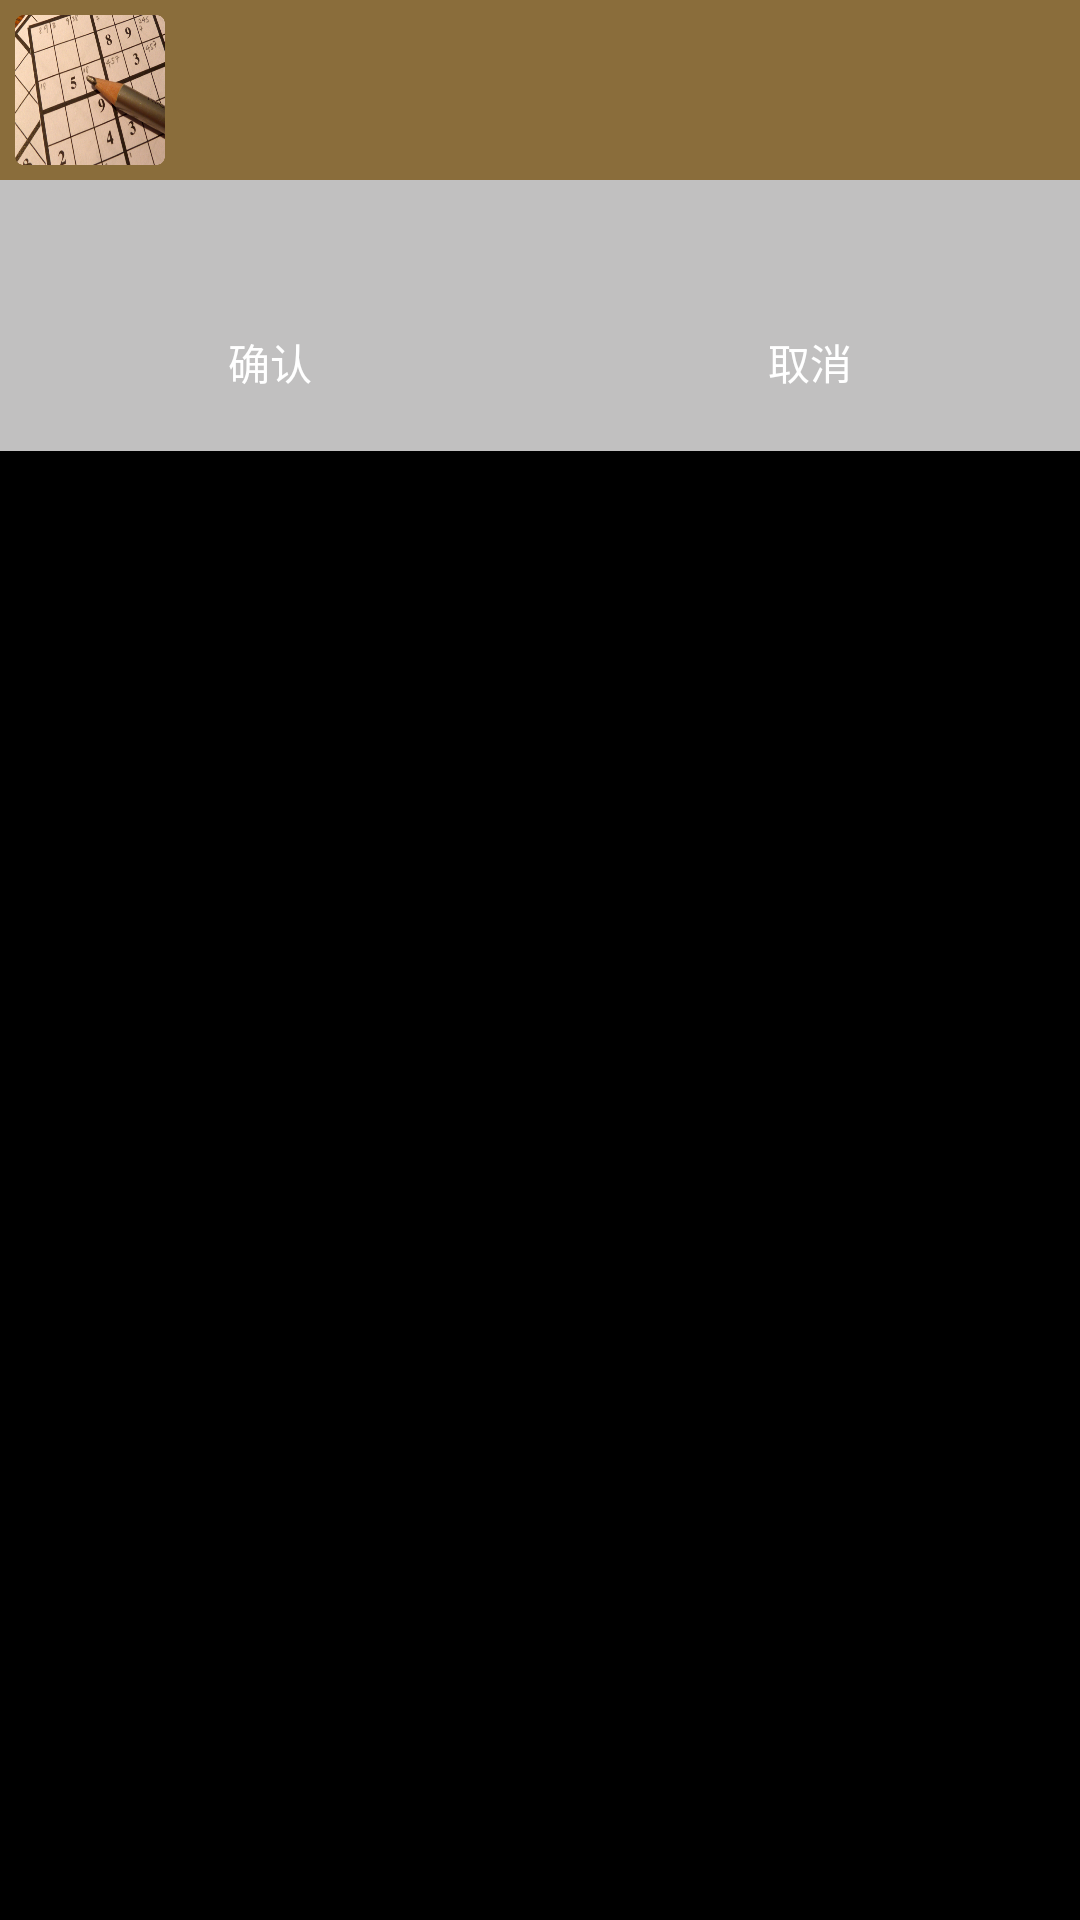

Icons on this 1080x1920 Android screen, each with the point to tap as (x,y):
sudoku: (90,90)
